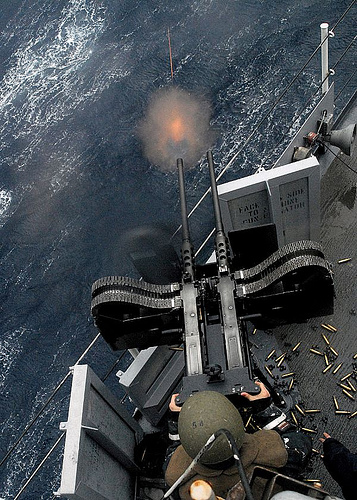rifle: (83, 137, 321, 387)
